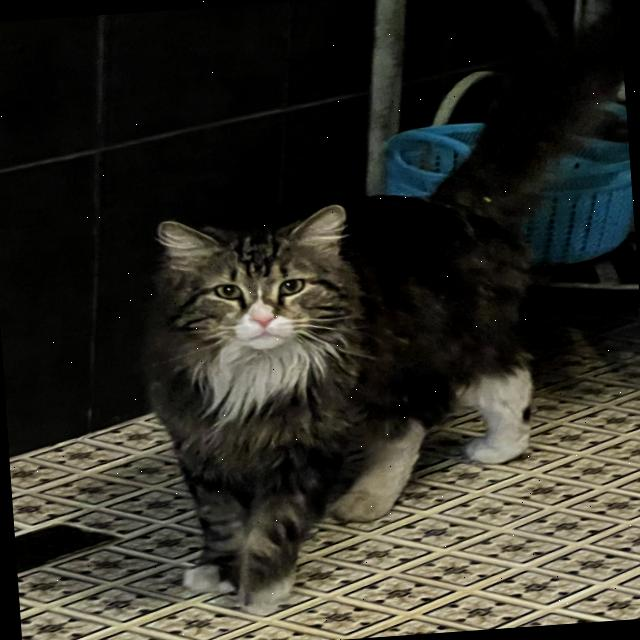maine_coon_cat: (116, 188, 384, 455)
